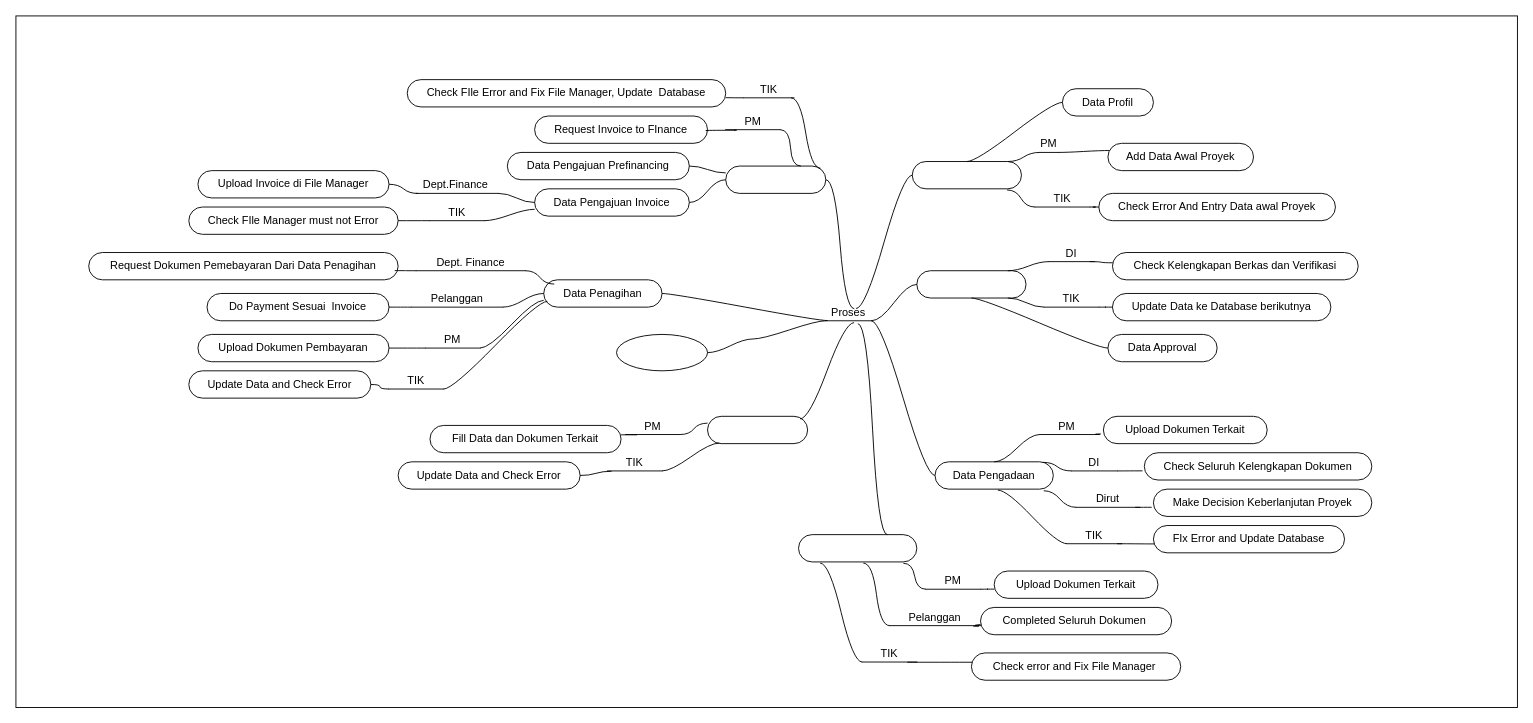
Image size: 1533x723. Some labels were removed from this diagram. The shapes that lost their labels are listed below. From the top down, each one's centre as x and y in pixels, then its label:
point (775, 179): Data Kontrak
point (966, 175): Data Rekanan
point (971, 284): Data Verifikasi
point (662, 352): Pemanis_Lapi
point (757, 429): Data Blanket
point (857, 548): Data Negosiasi
